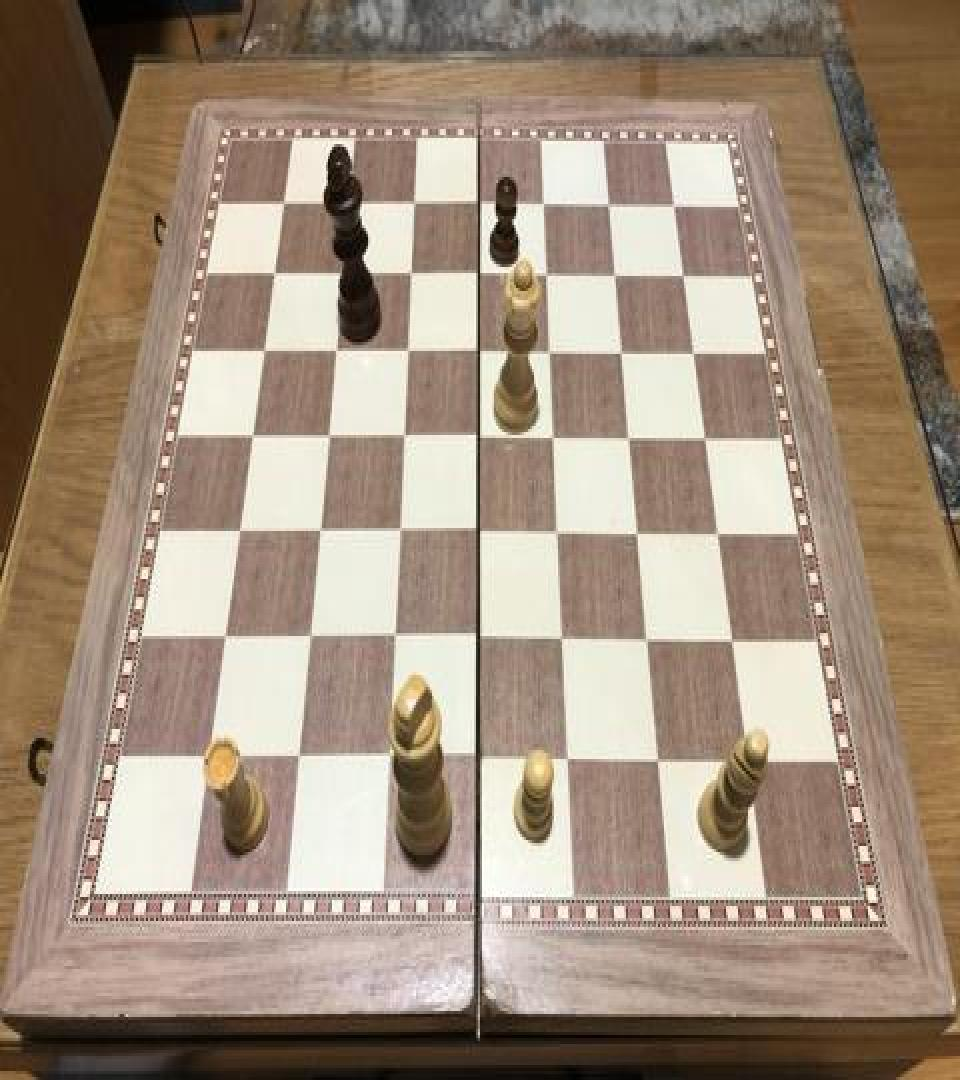xcorner: (308, 514, 332, 551), (228, 514, 252, 551), (552, 622, 576, 659), (468, 622, 492, 659), (384, 622, 408, 659), (647, 742, 671, 779), (558, 742, 582, 779), (468, 742, 492, 779), (662, 192, 686, 228), (597, 190, 621, 226), (532, 189, 556, 225), (467, 189, 491, 225), (336, 186, 360, 222), (271, 186, 295, 222), (671, 261, 695, 297), (604, 261, 628, 297), (467, 258, 491, 294), (399, 258, 423, 294), (330, 256, 354, 292), (262, 255, 286, 291), (682, 339, 706, 375), (611, 338, 635, 374), (539, 338, 563, 374), (467, 336, 491, 372), (396, 334, 420, 370), (324, 334, 348, 370), (251, 333, 275, 369), (693, 424, 717, 460), (618, 423, 642, 459), (543, 422, 567, 458), (468, 422, 492, 458), (392, 420, 416, 456), (316, 420, 340, 456), (240, 418, 264, 454), (706, 519, 730, 555), (627, 518, 651, 554), (547, 518, 571, 554), (468, 516, 492, 552), (388, 516, 412, 552), (720, 624, 744, 660), (636, 624, 660, 660), (299, 621, 323, 657), (214, 621, 238, 657), (736, 744, 760, 780), (378, 741, 402, 777), (288, 741, 312, 777), (198, 741, 222, 777), (402, 188, 426, 223), (536, 260, 560, 295)
